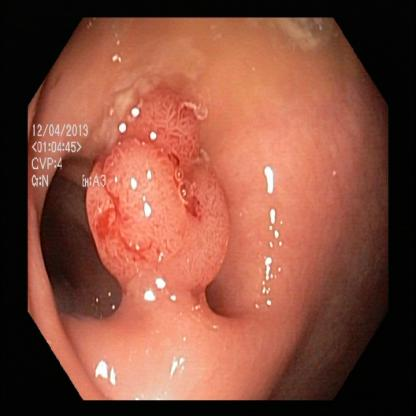Labels: (28, 116, 108, 194)
Polyps: (94, 108, 236, 298)
